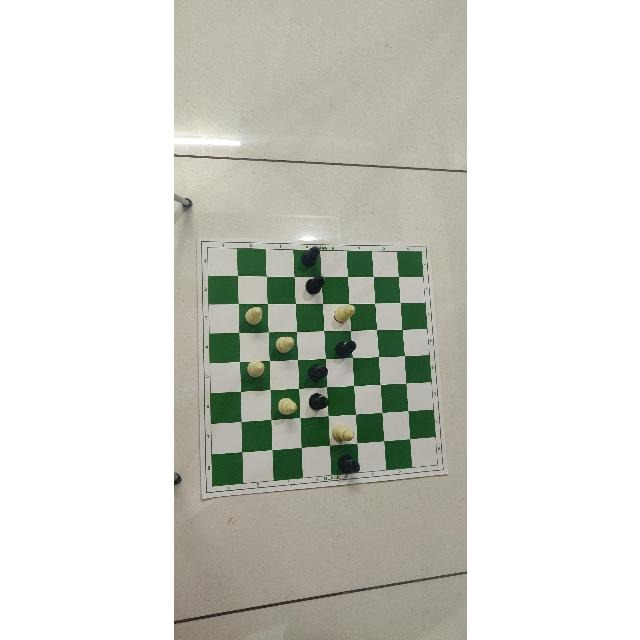black-bishop: (300, 246, 320, 268), (305, 273, 325, 295), (337, 454, 359, 474), (308, 392, 328, 411), (334, 340, 356, 357), (307, 364, 327, 382)
white-bishop: (332, 304, 355, 323), (330, 424, 353, 442), (244, 306, 262, 326), (274, 336, 294, 354), (276, 398, 296, 416), (246, 360, 264, 377)
